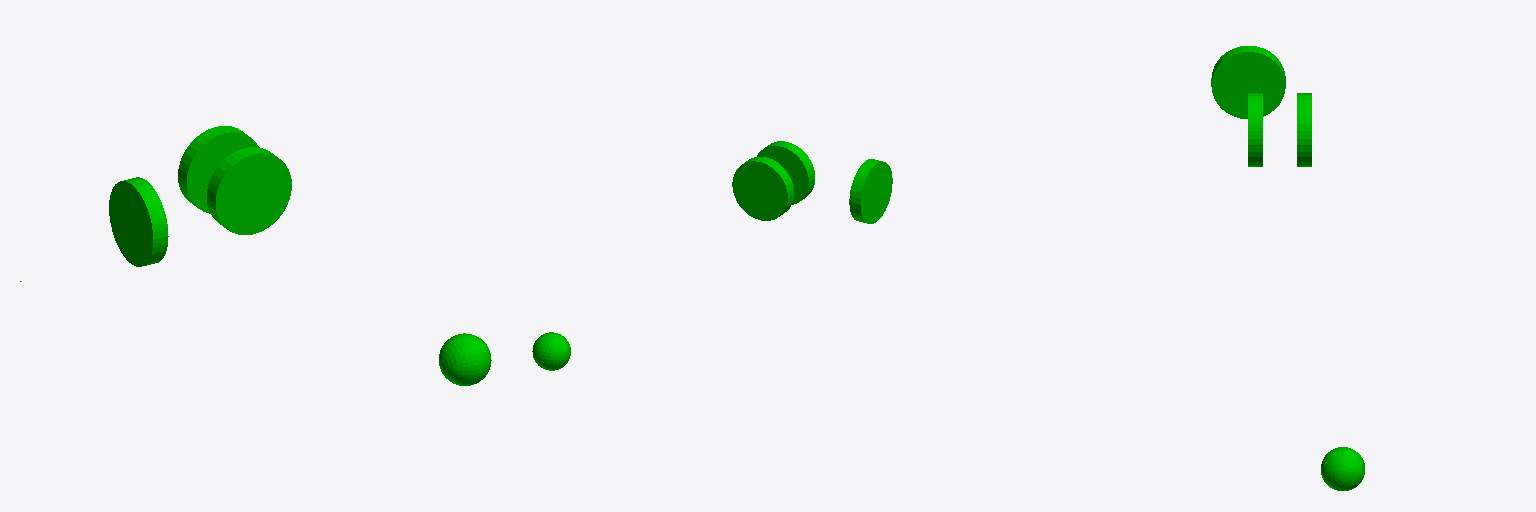
URDF robot description (b1):
<?xml version="1.0" ?>
<!-- =================================================================================== -->
<!-- |    This document was autogenerated by xacro from FL_leg.urdf.xacro              | -->
<!-- |    EDITING THIS FILE BY HAND IS NOT RECOMMENDED                                 | -->
<!-- =================================================================================== -->
<robot name="b1">
  <material name="black">
    <color rgba="0.0 0.0 0.0 1.0"/>
  </material>
  <material name="blue">
    <color rgba="0.0 0.0 0.8 1.0"/>
  </material>
  <material name="green">
    <color rgba="0.0 0.8 0.0 1.0"/>
  </material>
  <material name="grey">
    <color rgba="0.2 0.2 0.2 1.0"/>
  </material>
  <material name="silver">
    <color rgba="0.9137254901960784 0.9137254901960784 0.8470588235294118 1.0"/>
  </material>
  <material name="orange">
    <color rgba="1.0 0.4235294117647059 0.0392156862745098 1.0"/>
  </material>
  <material name="brown">
    <color rgba="0.8705882352941177 0.8117647058823529 0.7647058823529411 1.0"/>
  </material>
  <material name="red">
    <color rgba="0.8 0.0 0.0 1.0"/>
  </material>
  <material name="white">
    <color rgba="1.0 1.0 1.0 1.0"/>
  </material>
  <!-- Rotor related joint and link is only for demonstrate location. -->
  <!-- Actually, the rotor will rotate and the joint is not fixed. Reduction ratio should be considered. -->
  <link name="trunk">
    <visual>
      <origin rpy="0 0 0" xyz="0 0 0"/>
      <geometry>
        <box size="0.001 0.001 0.001"/>
      </geometry>
    </visual>
  </link>
  <joint name="FL_hip_joint" type="revolute">
    <origin rpy="0 0 0" xyz="0.3455 0.072 0"/>
    <parent link="trunk"/>
    <child link="FL_hip"/>
    <axis xyz="1 0 0"/>
    <dynamics damping="0" friction="0"/>
    <limit effort="91.0035" lower="-0.75" upper="0.75" velocity="19.69"/>
  </joint>
  <joint name="FL_hip_rotor_joint" type="fixed">
    <origin rpy="0 0 0" xyz="0.1955 0.072 0"/>
    <parent link="trunk"/>
    <child link="FL_hip_rotor"/>
  </joint>
  <link name="FL_hip">
    <visual>
      <origin rpy="0 0 0" xyz="0 0 0"/>
      <geometry>
        <mesh filename="package://example-robot-data/robots/b1_leg_description/meshes/hip.dae" scale="1 1 1"/>
      </geometry>
      <material name="orange"/>
    </visual>
    <collision>
      <origin rpy="1.5707963267948966 0 0" xyz="0 0.12675 0"/>
      <geometry>
        <cylinder length="0.04" radius="0.09"/>
      </geometry>
    </collision>
    <inertial>
      <origin rpy="0 0 0" xyz="-0.020298 0.009758 0.000109"/>
      <mass value="2.1"/>
      <inertia ixx="0.00406608" ixy="-0.000288071" ixz="-4.371e-06" iyy="0.008775259" iyz="1.811e-06" izz="0.006060348"/>
    </inertial>
  </link>
  <link name="FL_hip_rotor">
    <visual>
      <origin rpy="0 1.5707963267948966 0" xyz="0 0 0"/>
      <geometry>
        <cylinder length="0.02" radius="0.05"/>
      </geometry>
      <material name="green"/>
    </visual>
    <collision>
      <origin rpy="0 1.5707963267948966 0" xyz="0 0 0"/>
      <geometry>
        <cylinder length="0.02" radius="0.05"/>
      </geometry>
    </collision>
    <inertial>
      <origin rpy="0 0 0" xyz="0.0 0.0 0.0"/>
      <mass value="0.199"/>
      <inertia ixx="0.00039249" ixy="0.0" ixz="0.0" iyy="0.000219397" iyz="0.0" izz="0.000219397"/>
    </inertial>
  </link>
  <joint name="FL_thigh_joint" type="revolute">
    <origin rpy="0 0 0" xyz="0 0.12675 0"/>
    <parent link="FL_hip"/>
    <child link="FL_thigh"/>
    <axis xyz="0 1 0"/>
    <dynamics damping="0" friction="0"/>
    <limit effort="93.33" lower="-1.0" upper="3.5" velocity="23.32"/>
  </joint>
  <joint name="FL_thigh_rotor_joint" type="fixed">
    <origin rpy="0 0 0" xyz="0.0 0.00935 0"/>
    <parent link="FL_hip"/>
    <child link="FL_thigh_rotor"/>
  </joint>
  <link name="FL_thigh">
    <visual>
      <origin rpy="0 0 0" xyz="0 0 0"/>
      <geometry>
        <mesh filename="package://example-robot-data/robots/b1_leg_description/meshes/thigh.dae" scale="1 1 1"/>
      </geometry>
      <material name="orange"/>
    </visual>
    <collision>
      <origin rpy="0 1.5707963267948966 0" xyz="0 0 -0.175"/>
      <geometry>
        <box size="0.35 0.05 0.08"/>
      </geometry>
    </collision>
    <inertial>
      <origin rpy="0 0 0" xyz="-0.000235 -0.028704 -0.054169"/>
      <mass value="3.934"/>
      <inertia ixx="0.044459086" ixy="0.000128738" ixz="-0.002343913" iyy="0.046023457" iyz="0.006032996" izz="0.008696078"/>
    </inertial>
  </link>
  <link name="FL_thigh_rotor">
    <visual>
      <origin rpy="1.5707963267948966 0 0" xyz="0 0 0"/>
      <geometry>
        <cylinder length="0.02" radius="0.05"/>
      </geometry>
      <material name="green"/>
    </visual>
    <collision>
      <origin rpy="1.5707963267948966 0 0" xyz="0 0 0"/>
      <geometry>
        <cylinder length="0.02" radius="0.05"/>
      </geometry>
    </collision>
    <inertial>
      <origin rpy="0 0 0" xyz="0.0 0.0 0.0"/>
      <mass value="0.266"/>
      <inertia ixx="0.000485657" ixy="0.0" ixz="0.0" iyy="0.00091885" iyz="0.0" izz="0.000485657"/>
    </inertial>
  </link>
  <joint name="FL_calf_joint" type="revolute">
    <origin rpy="0 0 0" xyz="0 0 -0.35"/>
    <parent link="FL_thigh"/>
    <child link="FL_calf"/>
    <axis xyz="0 1 0"/>
    <dynamics damping="0" friction="0"/>
    <limit effort="140" lower="-2.6" upper="-0.6" velocity="15.55"/>
  </joint>
  <joint name="FL_calf_rotor_joint" type="fixed">
    <origin rpy="0 0 0" xyz="0.0 -0.0519 0"/>
    <parent link="FL_thigh"/>
    <child link="FL_calf_rotor"/>
  </joint>
  <link name="FL_calf">
    <visual>
      <origin rpy="0 0 0" xyz="0 0 0"/>
      <geometry>
        <mesh filename="package://example-robot-data/robots/b1_leg_description/meshes/calf.dae" scale="1 1 1"/>
      </geometry>
      <material name="orange"/>
    </visual>
    <collision>
      <origin rpy="0 1.5707963267948966 0" xyz="0 0 -0.175"/>
      <geometry>
        <box size="0.35 0.04 0.05"/>
      </geometry>
    </collision>
    <inertial>
      <origin rpy="0 0 0" xyz="0.005237 0.0 -0.202805"/>
      <mass value="0.857"/>
      <inertia ixx="0.015011003" ixy="5.2e-08" ixz="0.000250042" iyy="0.015159462" iyz="4.61e-07" izz="0.000375749"/>
    </inertial>
  </link>
  <link name="FL_calf_rotor">
    <visual>
      <origin rpy="1.5707963267948966 0 0" xyz="0 0 0"/>
      <geometry>
        <cylinder length="0.02" radius="0.05"/>
      </geometry>
      <material name="green"/>
    </visual>
    <!-- <collision>
                <origin rpy="${PI/2.0} 0 0" xyz="0 0 0"/>
                <geometry>
                    <cylinder length="0.02" radius="0.05"/>
                </geometry>
            </collision> -->
    <inertial>
      <origin rpy="0 0 0" xyz="0.0 0.0 0.0"/>
      <mass value="0.266"/>
      <inertia ixx="0.000485657" ixy="0.0" ixz="0.0" iyy="0.00091885" iyz="0.0" izz="0.000485657"/>
    </inertial>
  </link>
  <joint name="FL_foot_fixed" type="fixed">
    <origin rpy="0 0 0" xyz="0 0 -0.35"/>
    <parent link="FL_calf"/>
    <child link="FL_foot"/>
  </joint>
  <link name="FL_foot">
    <visual>
      <origin rpy="0 0 0" xyz="0 0 0"/>
      <geometry>
        <sphere radius="0.03"/>
      </geometry>
      <material name="green"/>
    </visual>
    <collision>
      <origin rpy="0 0 0" xyz="0 0 0"/>
      <geometry>
        <sphere radius="0.04"/>
      </geometry>
    </collision>
    <inertial>
      <mass value="0.05"/>
      <inertia ixx="3.2000000000000005e-05" ixy="0.0" ixz="0.0" iyy="3.2000000000000005e-05" iyz="0.0" izz="3.2000000000000005e-05"/>
    </inertial>
  </link>
  <transmission name="FL_hip_tran">
    <type>transmission_interface/SimpleTransmission</type>
    <joint name="FL_hip_joint">
      <hardwareInterface>hardware_interface/EffortJointInterface</hardwareInterface>
    </joint>
    <actuator name="FL_hip_motor">
      <hardwareInterface>hardware_interface/EffortJointInterface</hardwareInterface>
      <mechanicalReduction>1</mechanicalReduction>
    </actuator>
  </transmission>
  <transmission name="FL_thigh_tran">
    <type>transmission_interface/SimpleTransmission</type>
    <joint name="FL_thigh_joint">
      <hardwareInterface>hardware_interface/EffortJointInterface</hardwareInterface>
    </joint>
    <actuator name="FL_thigh_motor">
      <hardwareInterface>hardware_interface/EffortJointInterface</hardwareInterface>
      <mechanicalReduction>1</mechanicalReduction>
    </actuator>
  </transmission>
  <transmission name="FL_calf_tran">
    <type>transmission_interface/SimpleTransmission</type>
    <joint name="FL_calf_joint">
      <hardwareInterface>hardware_interface/EffortJointInterface</hardwareInterface>
    </joint>
    <actuator name="FL_calf_motor">
      <hardwareInterface>hardware_interface/EffortJointInterface</hardwareInterface>
      <mechanicalReduction>1</mechanicalReduction>
    </actuator>
  </transmission>
</robot>

--- Render facts (derived) ---
3 views of the same robot in one strip: view 1: azimuth 30°, elevation 25°; view 2: azimuth 150°, elevation 25°; view 3: azimuth 270°, elevation 25° (orthographic).
Model b1 with 8 links and 7 joints (3 revolute, 4 fixed), rooted at trunk, posed joints at zero except 1 at the middle of their limits (FL_calf_joint = -1.6).
Links seen in each view (by area): view 1: FL_thigh_rotor, FL_hip_rotor, FL_calf_rotor, FL_foot; view 2: FL_calf_rotor, FL_hip_rotor, FL_thigh_rotor, FL_foot; view 3: FL_hip_rotor, FL_foot, FL_thigh_rotor, FL_calf_rotor.
Boxes of the visible links, x1=… form: FL_thigh_rotor: x1=207, y1=147, x2=291, y2=234; FL_hip_rotor: x1=109, y1=177, x2=168, y2=266; FL_calf_rotor: x1=178, y1=126, x2=258, y2=213; FL_foot: x1=439, y1=333, x2=491, y2=385; FL_calf_rotor: x1=732, y1=157, x2=793, y2=220; FL_hip_rotor: x1=849, y1=159, x2=892, y2=223; FL_thigh_rotor: x1=757, y1=141, x2=814, y2=204; FL_foot: x1=532, y1=332, x2=570, y2=370; FL_hip_rotor: x1=1211, y1=46, x2=1285, y2=118; FL_foot: x1=1321, y1=447, x2=1364, y2=490; FL_thigh_rotor: x1=1248, y1=93, x2=1262, y2=166; FL_calf_rotor: x1=1297, y1=93, x2=1311, y2=166.
Bounding box of the posed robot: 0.7258 × 0.2292 × 0.4198 m (x, y, z).
Meshes: 3 distinct files referenced, 0 mesh visuals loaded (none loaded); not drawn: 3 (reference not matched to a file when rendering).